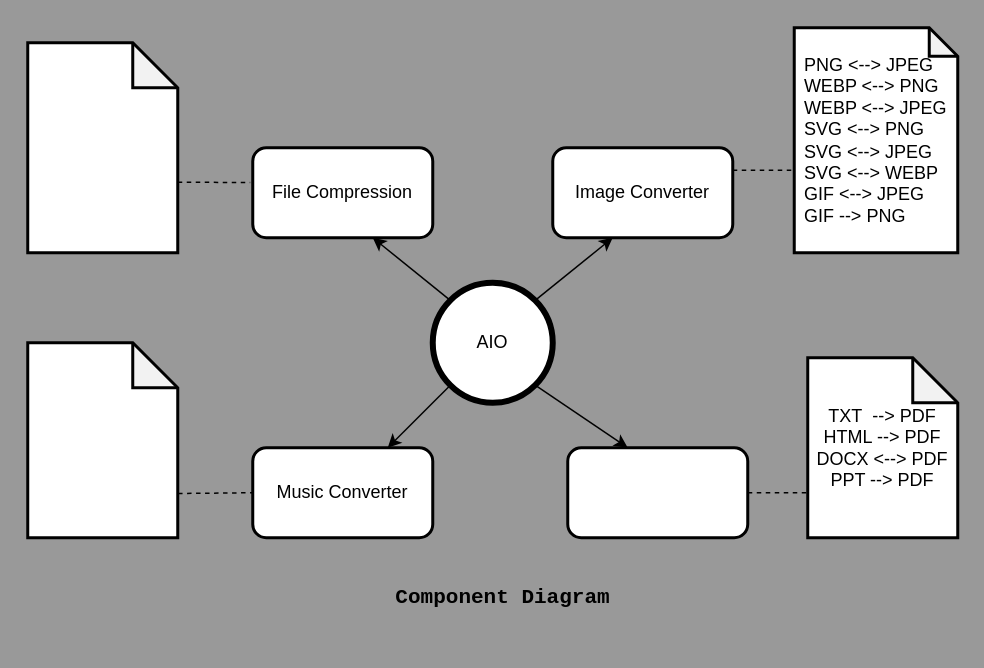
The diagram is 984 pixels wide and 668 high, and some of its shapes have lost their labels. The shapes that lost their labels are listed below. From the top down, each one's centre as x and y in pixels, then its label:
(x=102, y=147): PDF PNG JPEG WEBP ICO
(x=102, y=439): MP3 <--> WAV
(x=657, y=492): Document Converter
